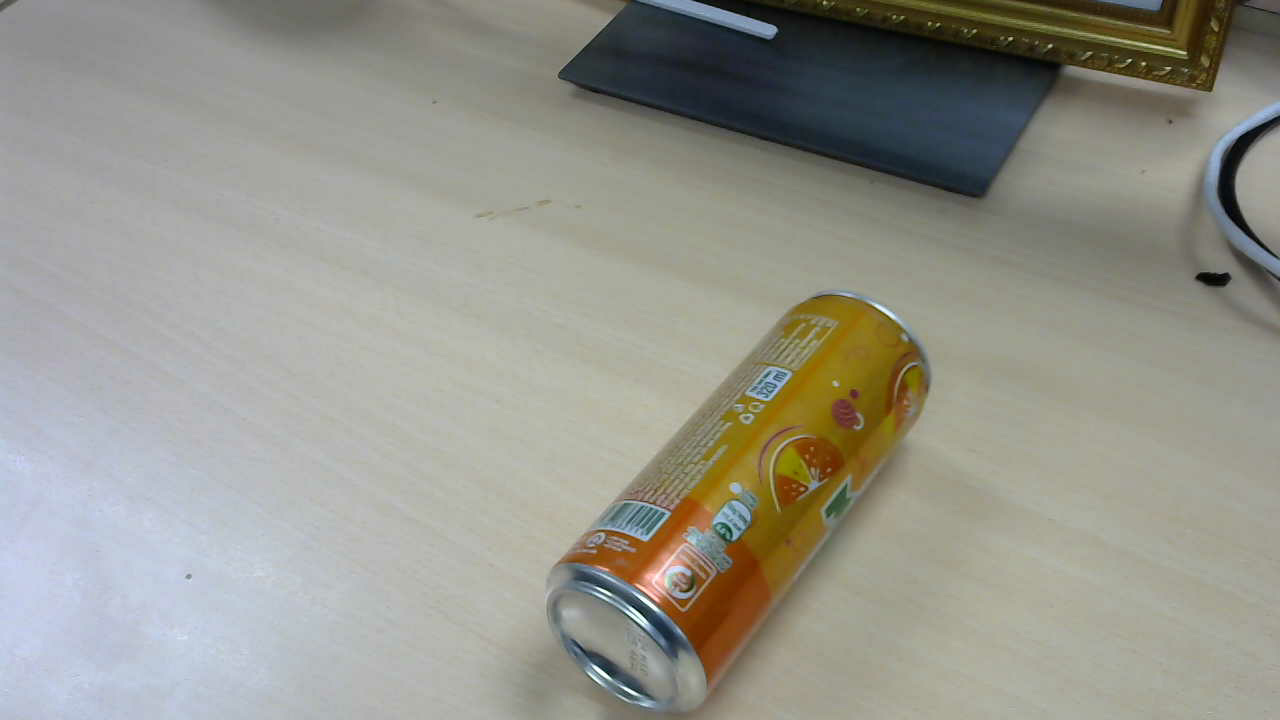Mirinda: (545, 293, 938, 697)
